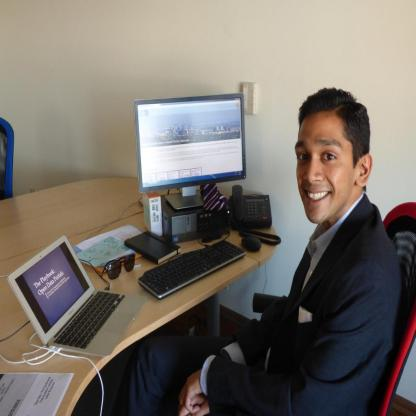board: (6, 230, 146, 359)
